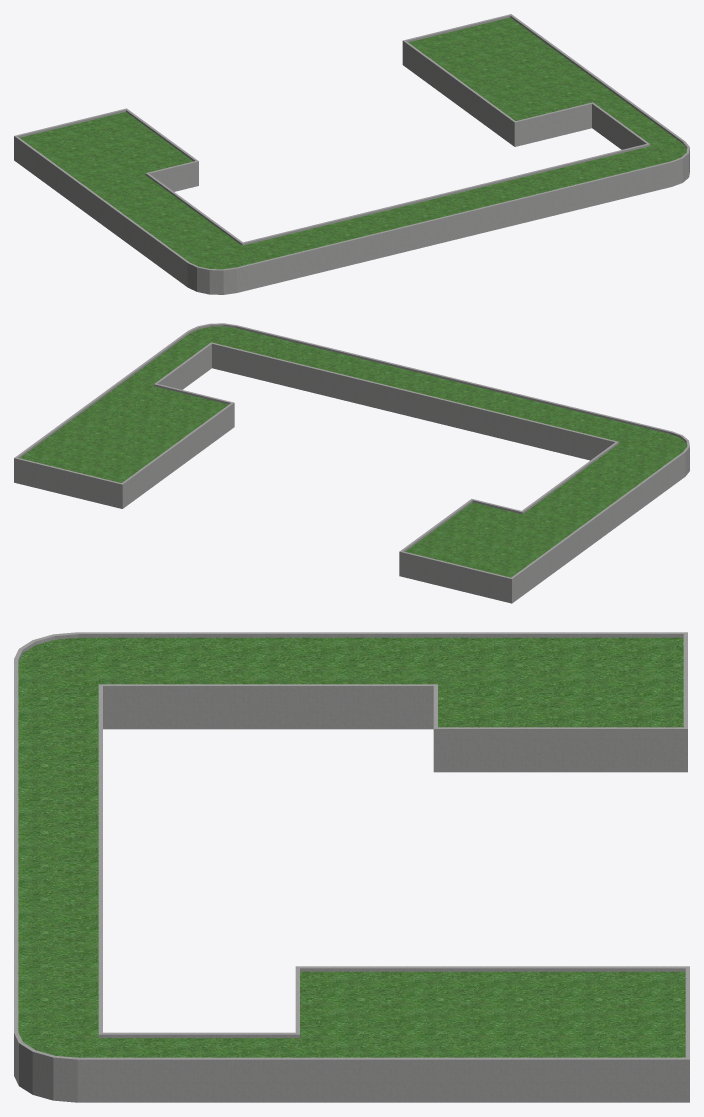
Rendered from garden.glb.
The picture shows the model from 3 angles, top to bottom: view 1: azimuth 30°, elevation 25°; view 2: azimuth 150°, elevation 25°; view 3: azimuth 270°, elevation 25°; orthographic projection. The views are drawn at different scales.
Visible parts, largest first — view 1: garden; view 2: garden; view 3: garden.
Boxes of the visible parts, left/top/right/bottom form: garden: left=14, top=14, right=689, bottom=294; garden: left=14, top=323, right=689, bottom=603; garden: left=14, top=632, right=689, bottom=1102.
Bounding box in the file's own units: 22.69 × 1.07 × 15.17.
Materials: 2 (2 with a texture image).
